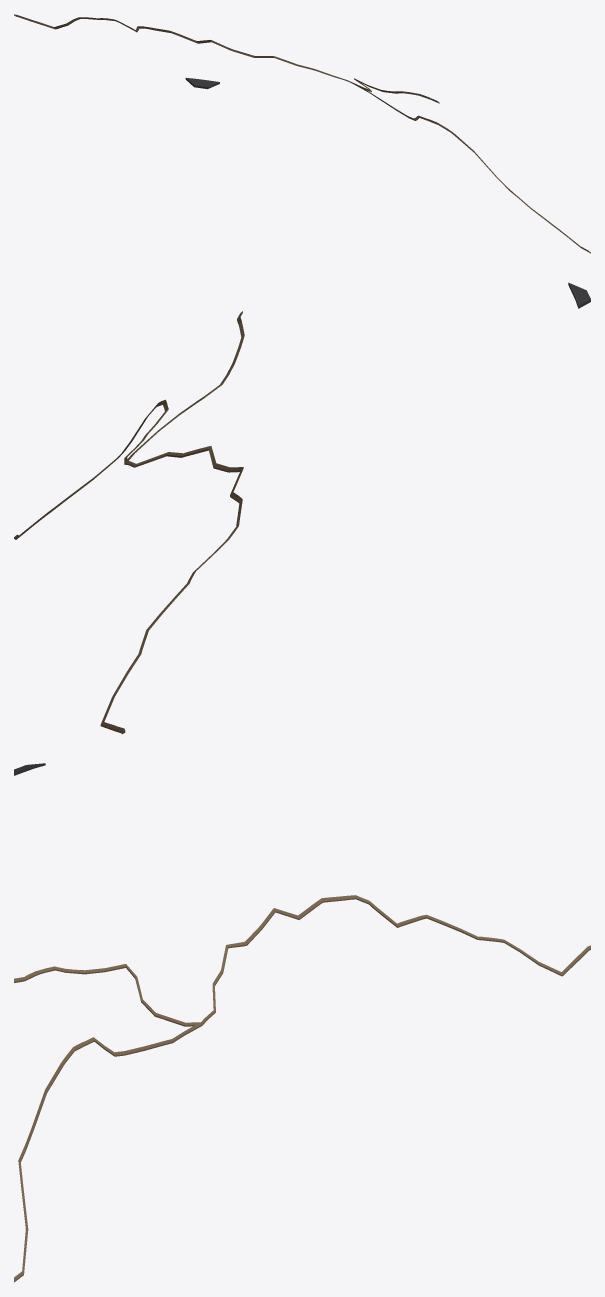
3 renders of one model, top to bottom at view 1: azimuth 30°, elevation 25°; view 2: azimuth 150°, elevation 25°; view 3: azimuth 270°, elevation 25°, orthographic. The views are drawn at different scales.
Size of the model in its own units: 262 by 168 by 292.
